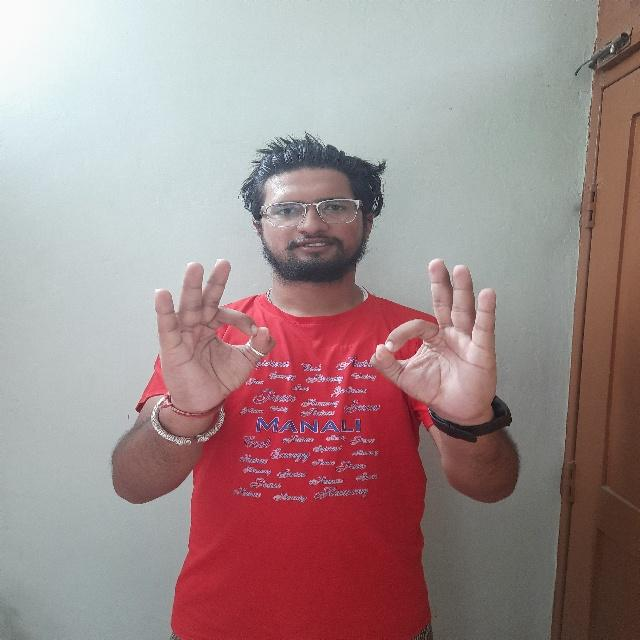Okay: (368, 256, 509, 429), (143, 255, 282, 422)
